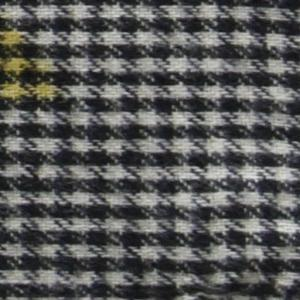Damage: (175, 273, 290, 300)
Stain: (1, 22, 63, 115)
